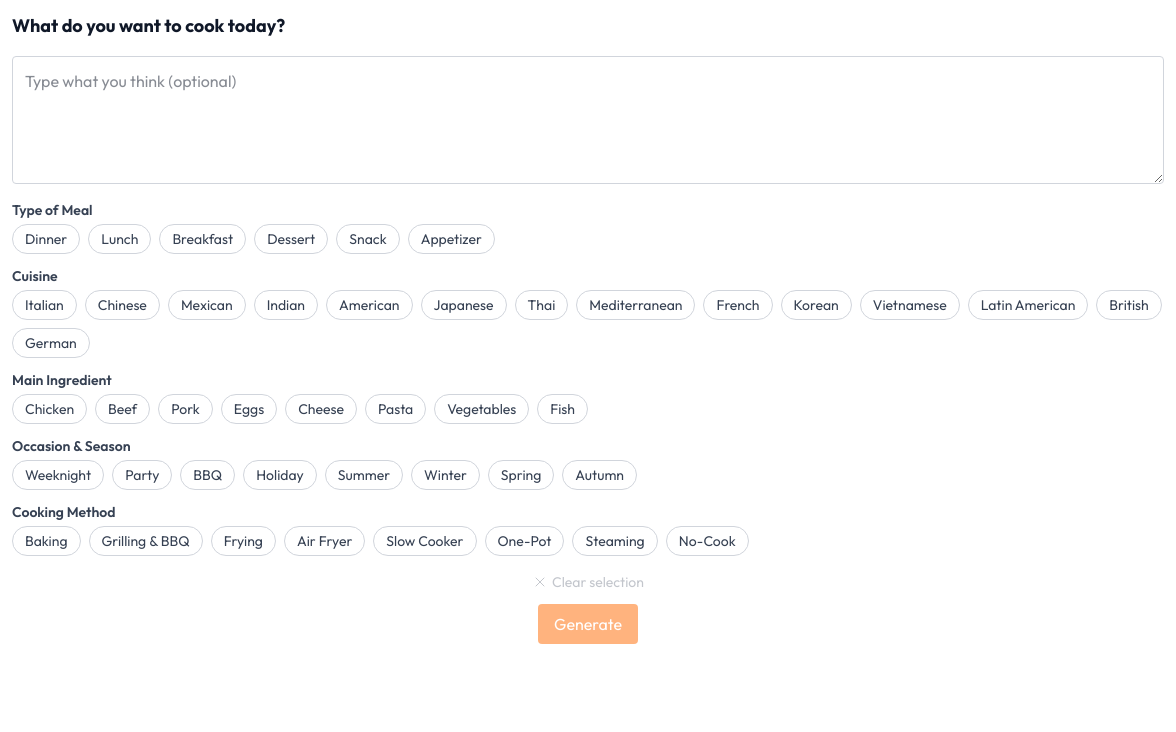
GeneratePage › shows a server error on the results page
This screenshot has width=1176, height=732.
Type "pasta" into the text box with placeholder "Type what you think (optional)" at [588, 120], box [12,56,1164,184]
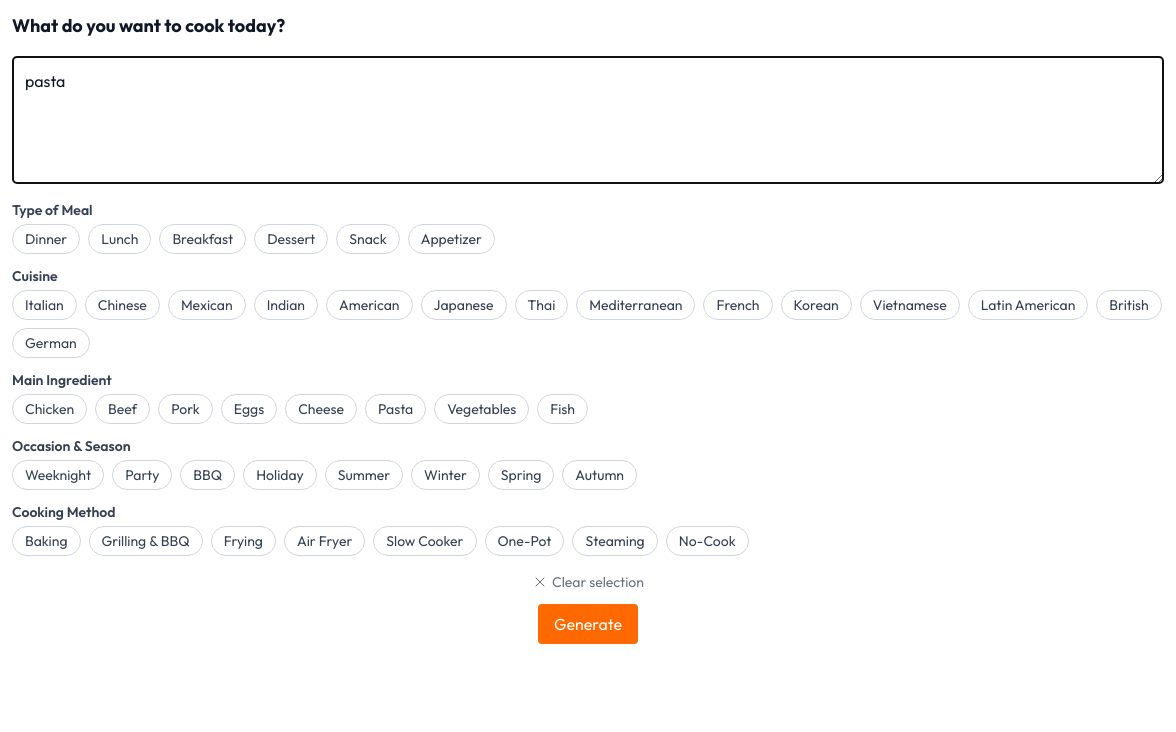
Click the button "Generate" at [588, 624], box [538,604,638,644]
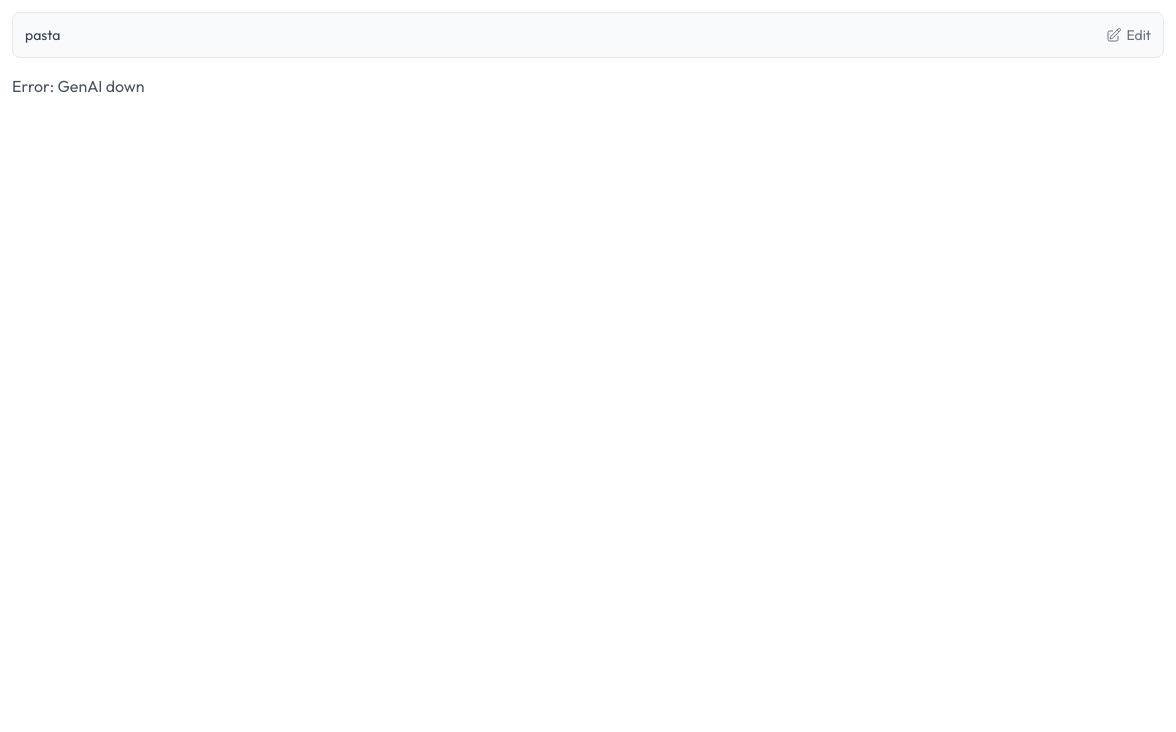
Expected: the text "Error: GenAI down" is shown, [12,76,145,96]
Expected: the button "Edit" is shown, [1106,25,1151,45]
